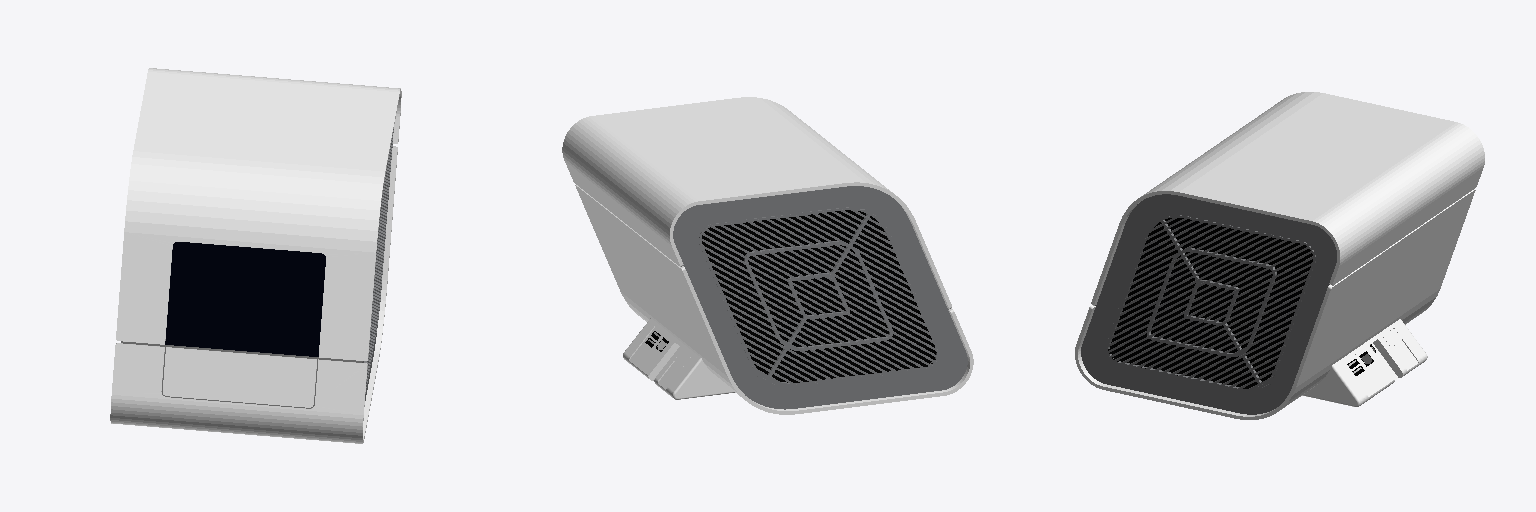
The picture shows the model from 3 angles: view 1: azimuth 30°, elevation 25°; view 2: azimuth 150°, elevation 25°; view 3: azimuth 270°, elevation 25°; orthographic projection.
Visible parts, largest first — view 1: Spinit_Handy_White_Plastic, Spinit_Handy_Grey_LED, Spinit_Handy_Gray_Plastic; view 2: Spinit_Handy_White_Plastic, Spinit_Handy_Gray_Plastic, Spinit_Handy_Grey_Inner_Parts; view 3: Spinit_Handy_White_Plastic, Spinit_Handy_Gray_Plastic, Spinit_Handy_Grey_Inner_Parts.
Part boxes in pixels (x1,y1,x2,y2): Spinit_Handy_White_Plastic: (110,68,401,443); Spinit_Handy_Grey_LED: (165,242,325,356); Spinit_Handy_Gray_Plastic: (362,129,393,400); Spinit_Handy_White_Plastic: (562,97,973,414); Spinit_Handy_Gray_Plastic: (673,186,967,409); Spinit_Handy_Grey_Inner_Parts: (645,210,936,382); Spinit_Handy_White_Plastic: (1075,92,1484,419); Spinit_Handy_Gray_Plastic: (1081,194,1336,414); Spinit_Handy_Grey_Inner_Parts: (1108,218,1375,388).
Size of the model in its own units: 12.99 by 8.8 by 13.17.
5 materials, 1 textured.